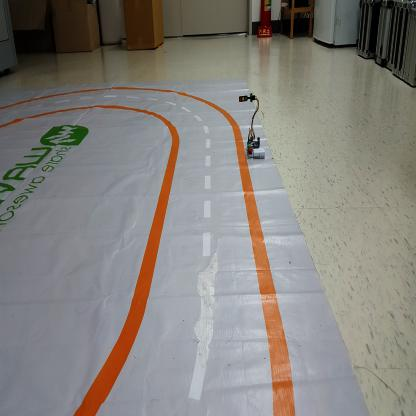traffic-light: (238, 93, 248, 104)
